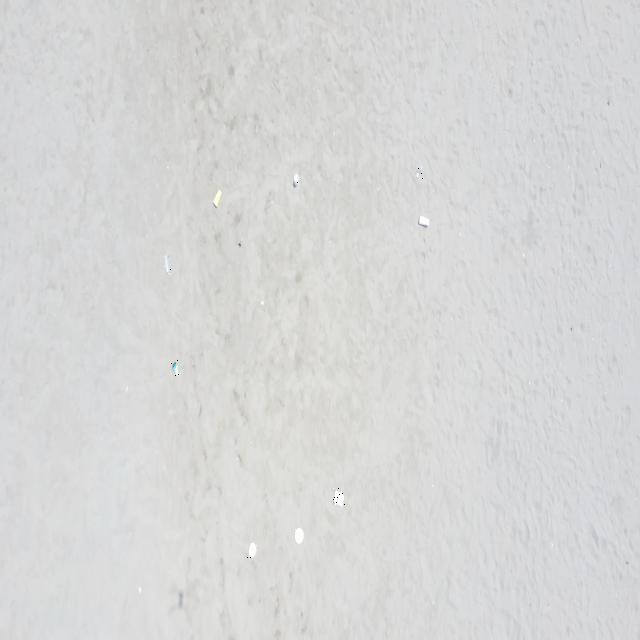take-away-containers: (333, 488, 345, 508), (247, 542, 258, 559), (294, 527, 304, 545)
takeaway-cup: (212, 188, 223, 208), (162, 252, 171, 276), (171, 360, 181, 378), (413, 164, 423, 180), (419, 214, 430, 228), (294, 173, 299, 187)
